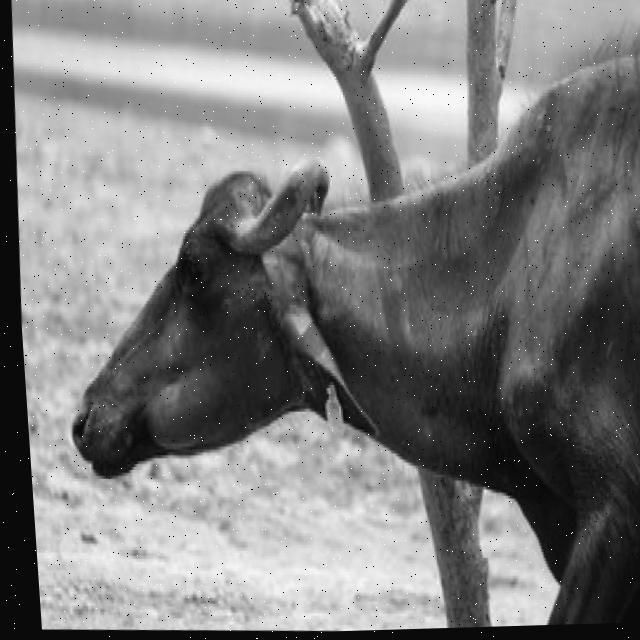Buffalo: (38, 37, 640, 639)
